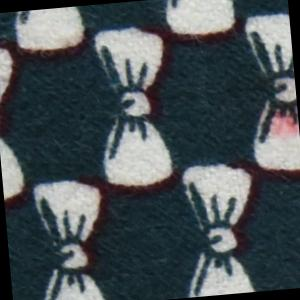Stain: (260, 100, 300, 144)
